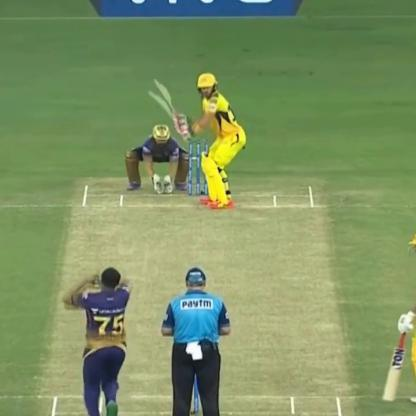bat: (142, 72, 195, 138)
pitch: (43, 178, 363, 416)
